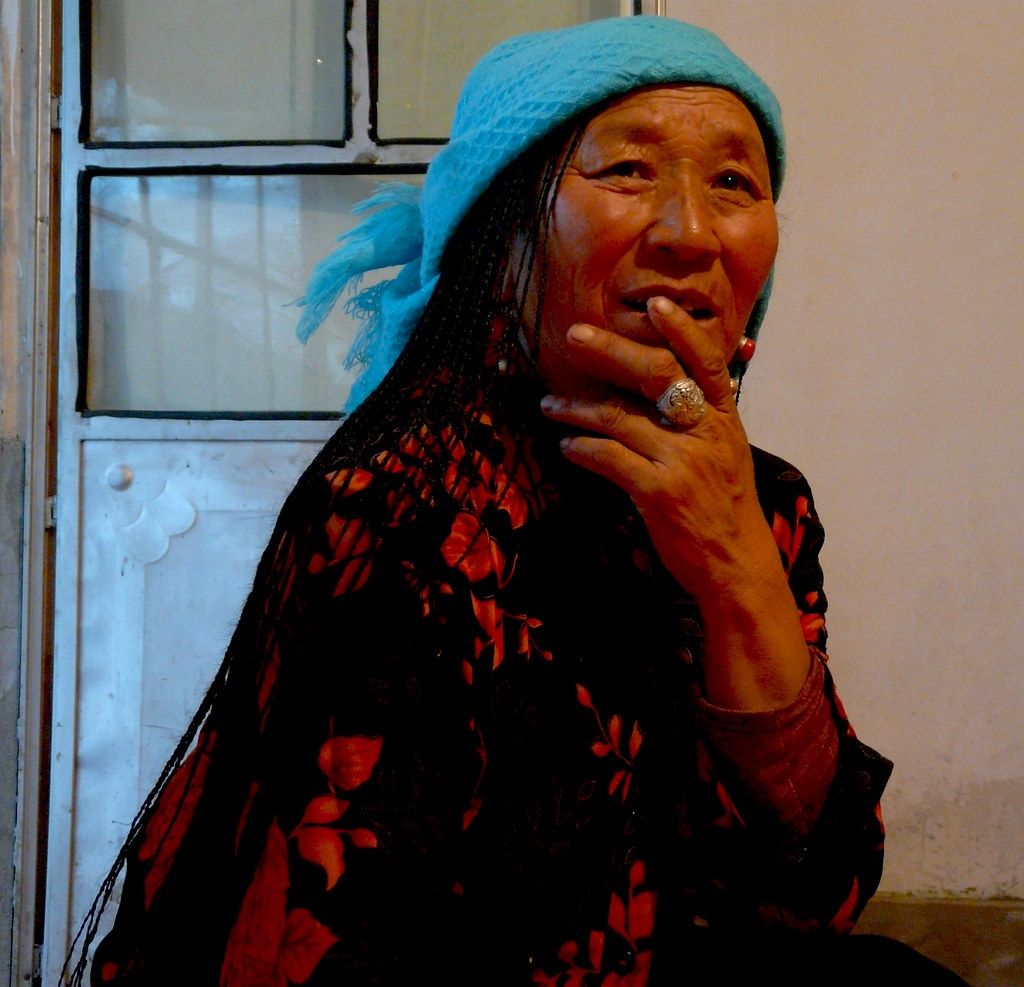without_mask: (505, 81, 818, 418)
